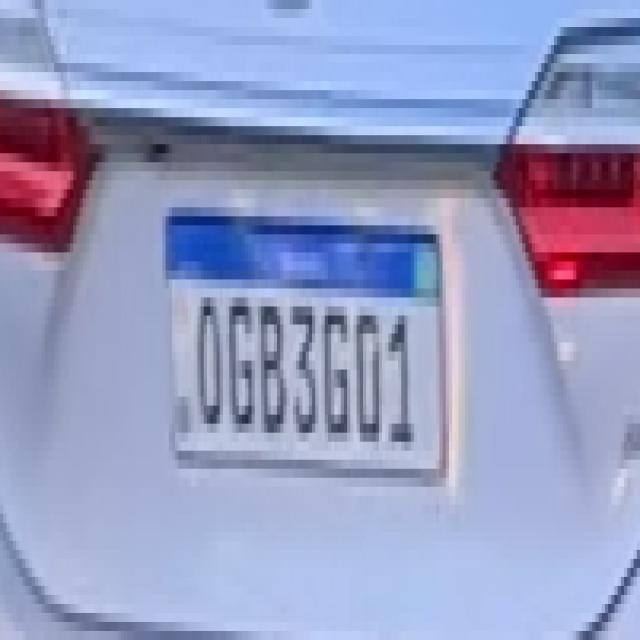Placa_mercosul_carro: (164, 205, 445, 483)
